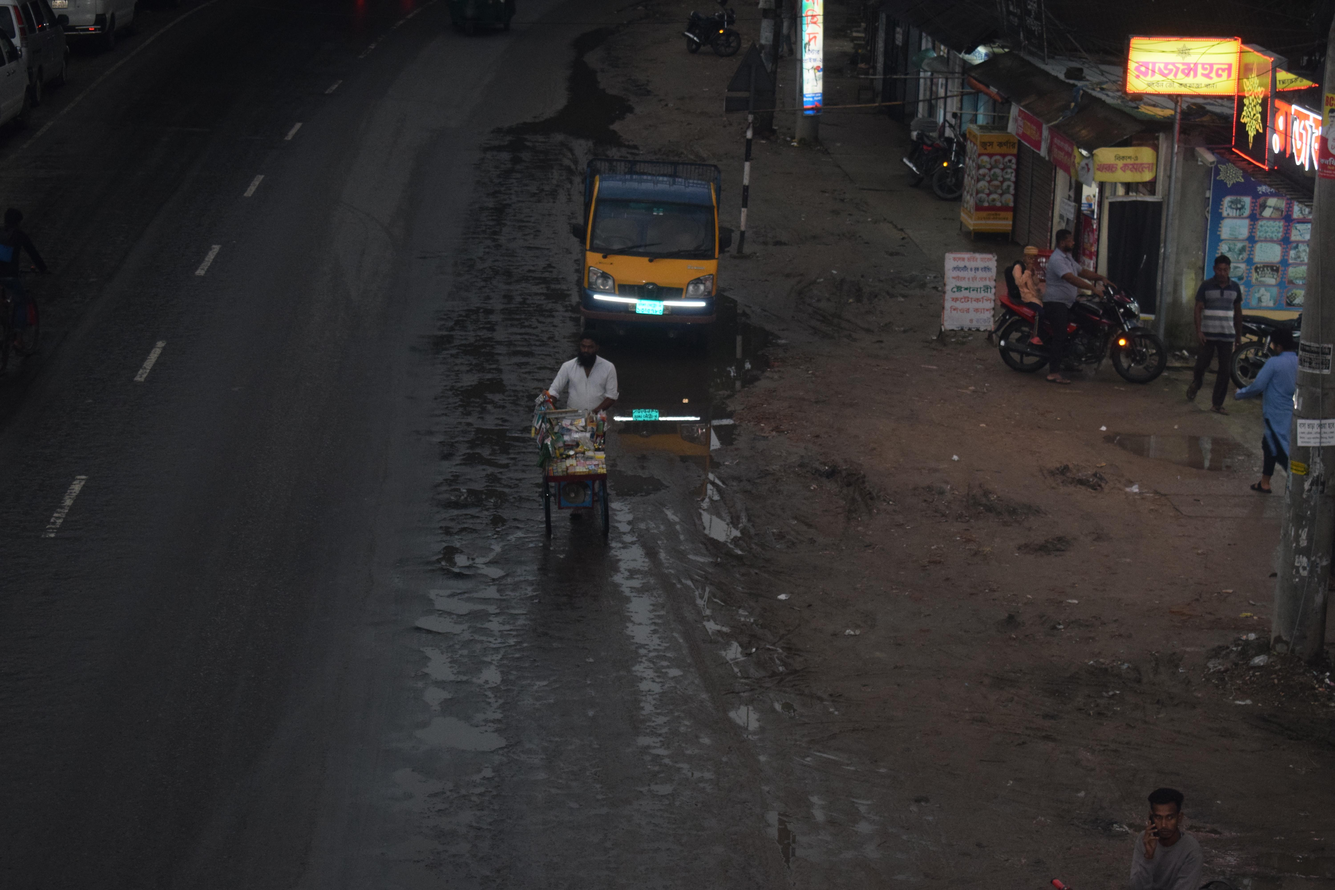Bike: (968, 214, 1195, 414)
Truck: (541, 119, 747, 370)
